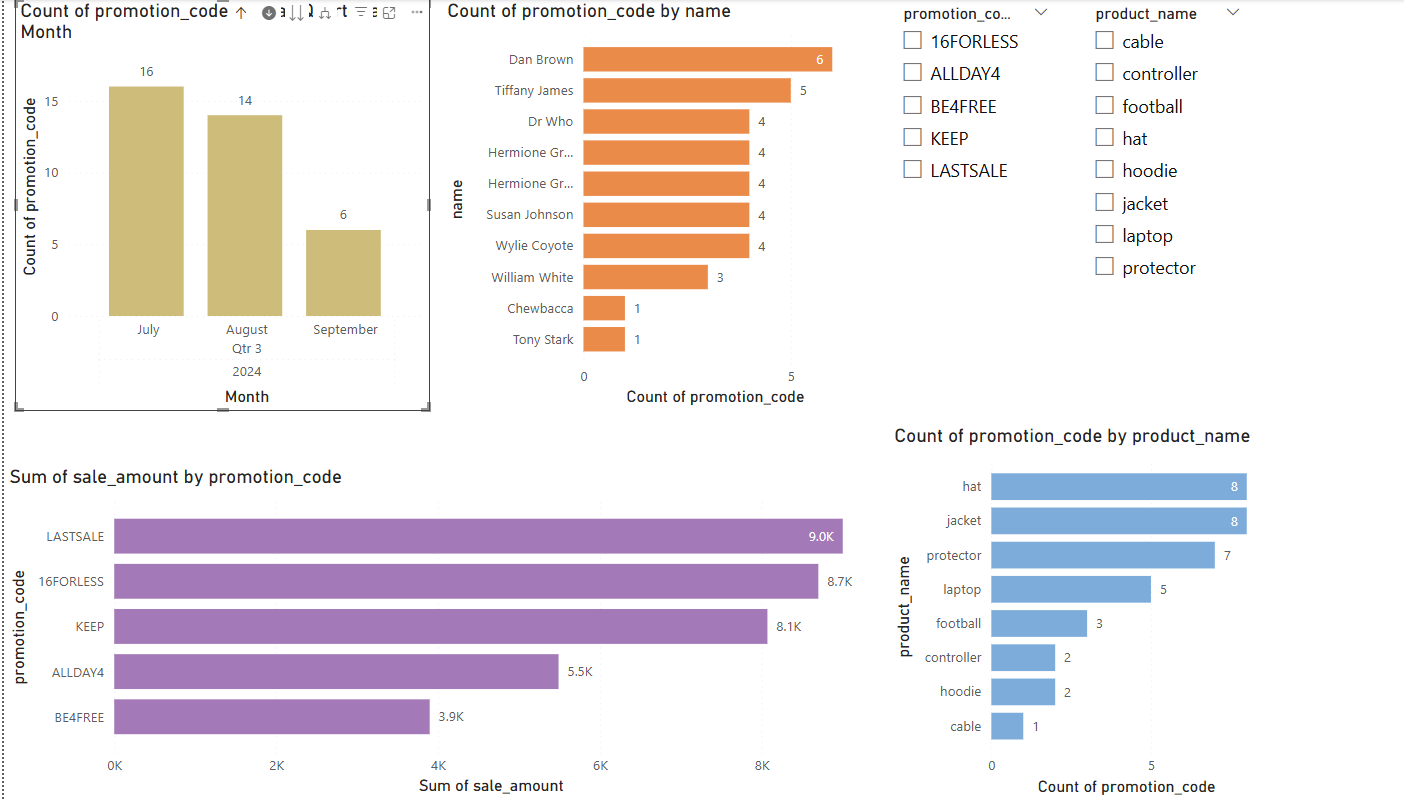

The page's visual inventory and layout, read from the dashboard file:
{"tool":"powerbi","page":{"name":"P6 and Promotion Codes","canvas":[1280,720],"ordinal":0},"visuals":[{"type":"columnChart","fields":{"Category":["sale.Year_dt.Variation.Date Hierarchy.Year","sale.Quarter_dt.Variation.Date Hierarchy.Quarter","sale.month_name_dt.Variation.Date Hierarchy.Month","sale.month_name_dt.Variation.Date Hierarchy.Day"],"Y":["CountNonNull(sale.promotion_code)"]},"box":[9.7,0,372.5,369.6],"z":0},{"type":"clusteredBarChart","fields":{"Category":["sale.promotion_code"],"Y":["Sum(sale.sale_amount)"]},"box":[0,418.4,788.3,301.1],"z":1000},{"type":"clusteredBarChart","fields":{"Category":["customer.name"],"Y":["CountNonNull(sale.promotion_code)"]},"box":[393,0,373,370],"z":2000},{"type":"clusteredBarChart","fields":{"Category":["product.product_name"],"Y":["CountNonNull(sale.promotion_code)"]},"box":[794.7,381.3,344.3,338.5],"z":3000},{"type":"slicer","fields":{"Values":["sale.promotion_code"]},"box":[794.7,0,155.6,176],"z":4000},{"type":"slicer","fields":{"Values":["product.product_name"]},"box":[966.5,0,155.6,292.1],"z":5000}]}

Visuals, with their boxes on the page's 1280x720 design canvas (x1, y1, x2, y2). These are canvas units, not pixel positions in the 1404x800 screenshot, which may show the page scaled, cropped or inside an application window:
columnChart - sale.Year_dt.Variation.Date Hierarchy.Year x sale.Quarter_dt.Variation.Date Hierarchy.Quarter: bbox=(10, 0, 382, 370)
clusteredBarChart - sale.promotion_code x Sum(sale.sale_amount): bbox=(0, 418, 788, 720)
clusteredBarChart - customer.name x CountNonNull(sale.promotion_code): bbox=(393, 0, 766, 370)
clusteredBarChart - product.product_name x CountNonNull(sale.promotion_code): bbox=(795, 381, 1139, 720)
slicer - sale.promotion_code: bbox=(795, 0, 950, 176)
slicer - product.product_name: bbox=(966, 0, 1122, 292)
